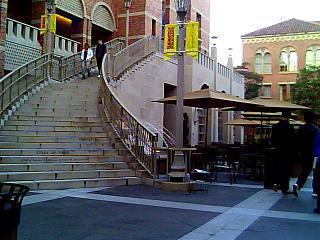Escaleras: (0, 84, 149, 193), (64, 48, 159, 83)
